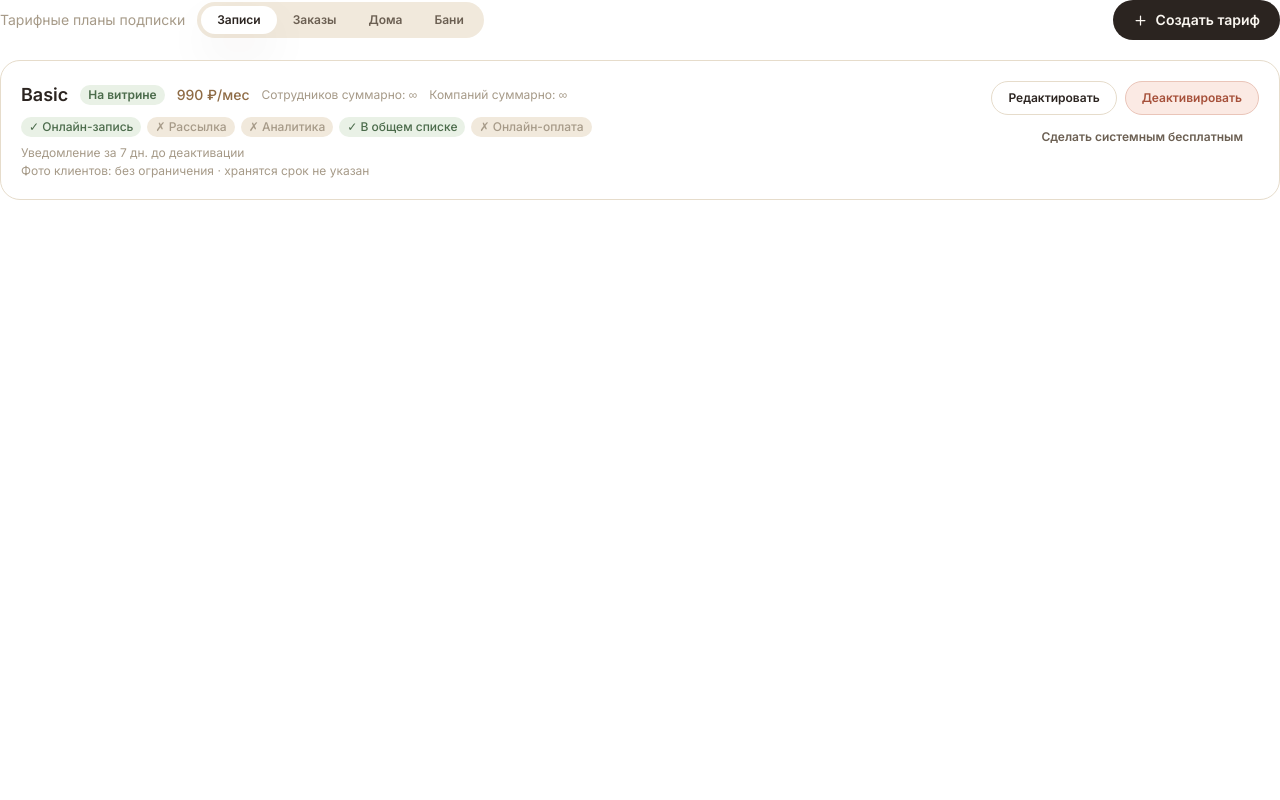
it: PlansTab — options matrix renders exactly the catalog, no client-side filter (§391.1) › renders a row for every catalog option, with no filtering by capabilityKey
The image size is (1280, 800).
Expected: the heading "Basic" is shown, [21, 81, 68, 109]
Click the button "Редактировать" at {"x": 1054, "y": 98}, box [992, 81, 1117, 115]
(page scrolled)
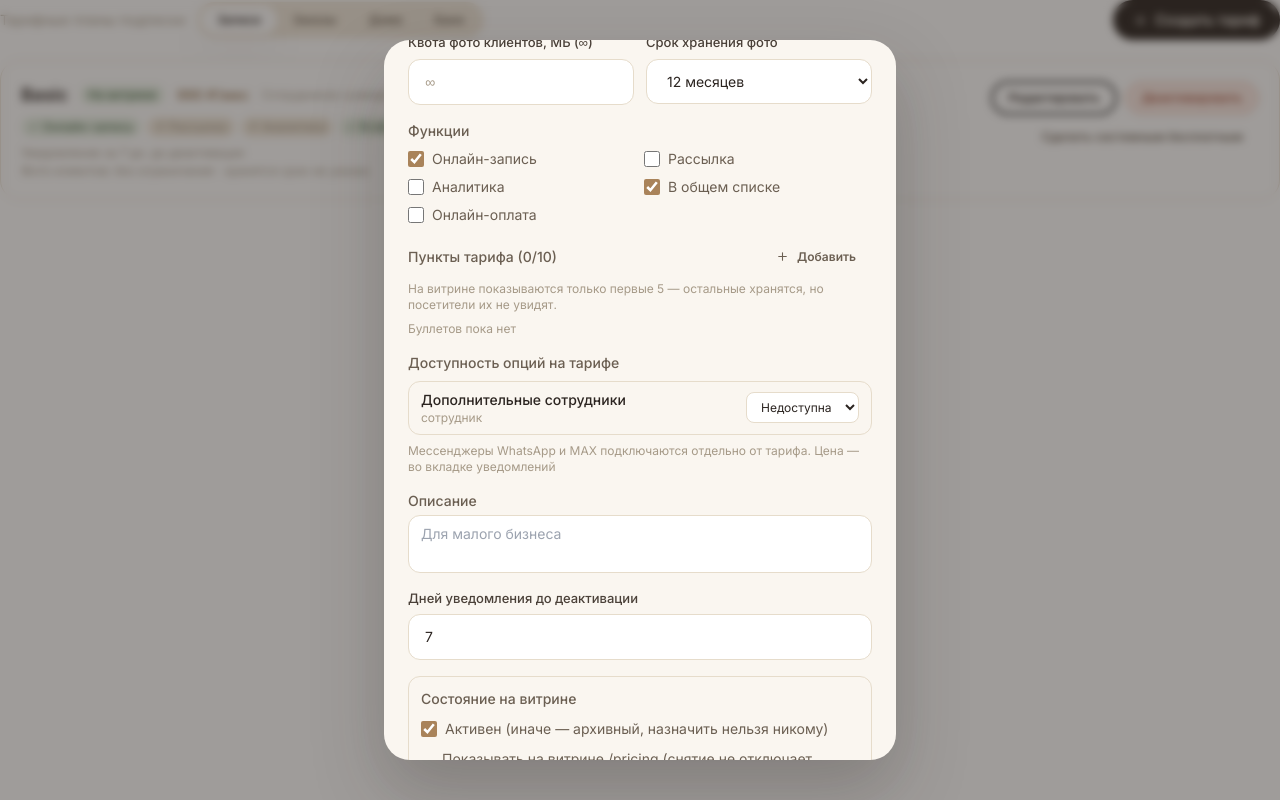
Expected: the text "Дополнительные сотрудники" is shown, [421, 390, 626, 410]
